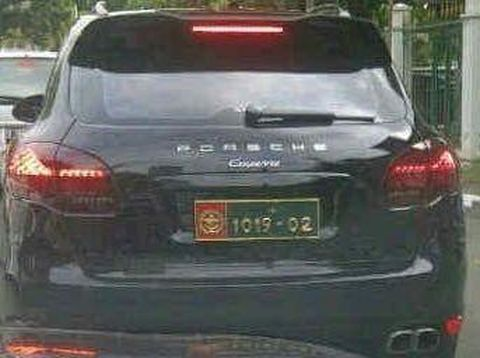plate: (230, 203, 319, 239)
